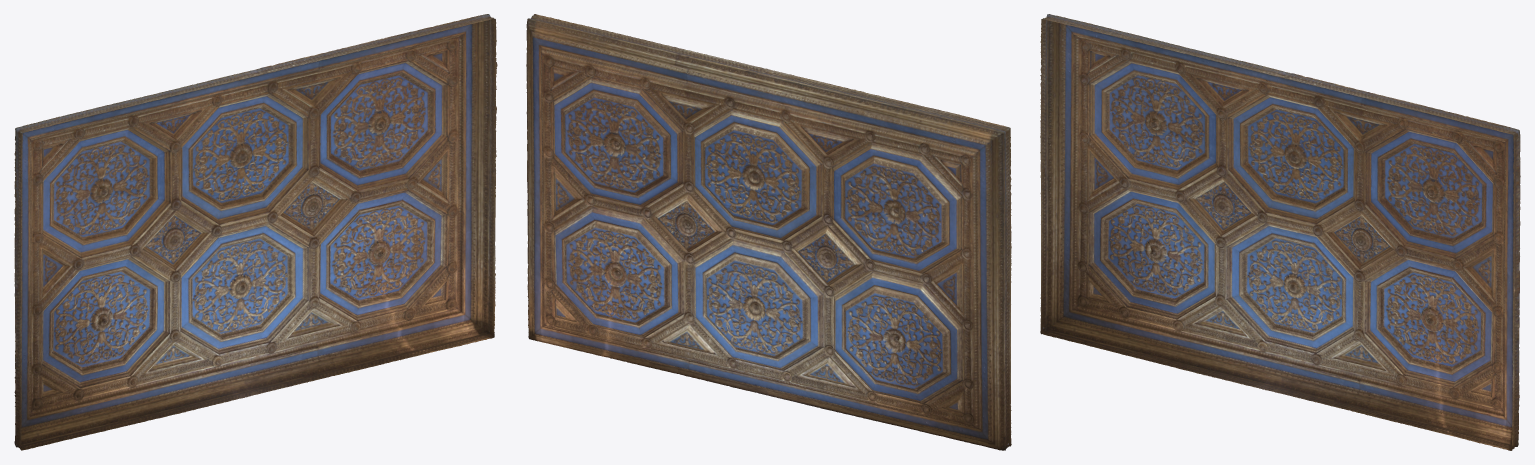
The model's file is staircase_ceiling.glb.
3 views of the same model, side by side, from view 1: azimuth 30°, elevation 25°; view 2: azimuth 150°, elevation 25°; view 3: azimuth 330°, elevation 25° (orthographic).
Visible parts, largest first — view 1: Object_2, Object_3; view 2: Object_2, Object_3; view 3: Object_2, Object_3.
Part boxes in pixels (x1=…): Object_2: x1=14, y1=14, x2=497, y2=450; Object_3: x1=30, y1=35, x2=461, y2=405; Object_2: x1=526, y1=14, x2=1011, y2=450; Object_3: x1=541, y1=49, x2=975, y2=420; Object_2: x1=1040, y1=14, x2=1520, y2=450; Object_3: x1=1075, y1=37, x2=1505, y2=411.
Size of the model in its own units: 8.48 by 5.46 by 0.5987.
Materials: 1 (1 with a texture image).
